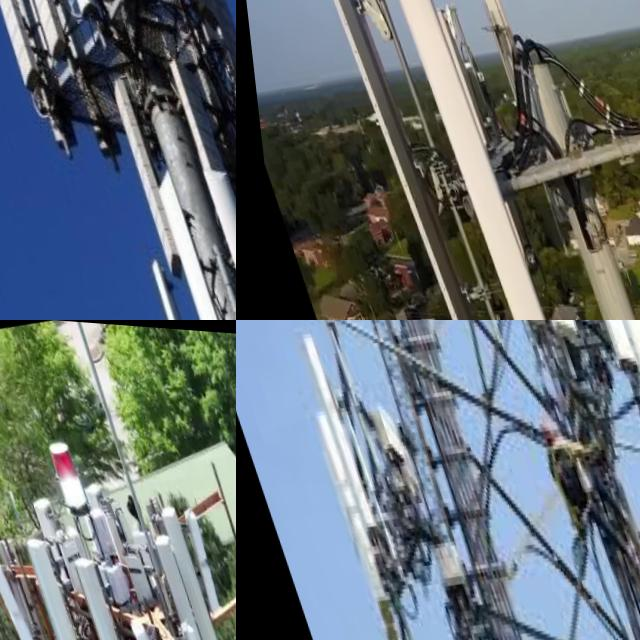GSM Antenna: (383, 0, 576, 320), (300, 0, 483, 320), (470, 0, 574, 237), (87, 50, 178, 271), (288, 325, 376, 541), (297, 399, 374, 594), (149, 488, 227, 640), (136, 515, 220, 640), (15, 530, 99, 640), (60, 538, 143, 640), (187, 152, 236, 320), (172, 495, 232, 616), (128, 241, 189, 320), (0, 0, 70, 60), (0, 0, 46, 91), (569, 320, 640, 378), (0, 545, 43, 640), (118, 602, 183, 640)
